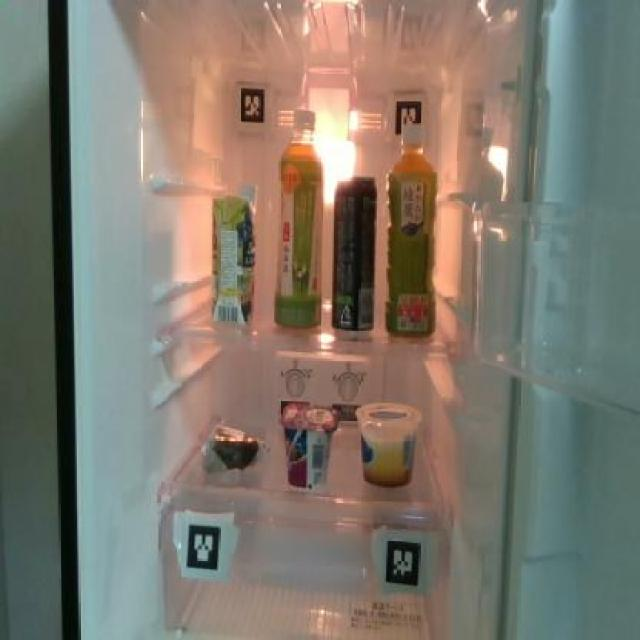energy_drink: (330, 174, 376, 331)
pudding: (348, 398, 424, 489)
rice_ball: (194, 415, 268, 482)
smoothie: (209, 178, 256, 327)
tea_a: (382, 118, 438, 337)
tea_i: (271, 104, 326, 331)
yogurt: (276, 402, 341, 492)
